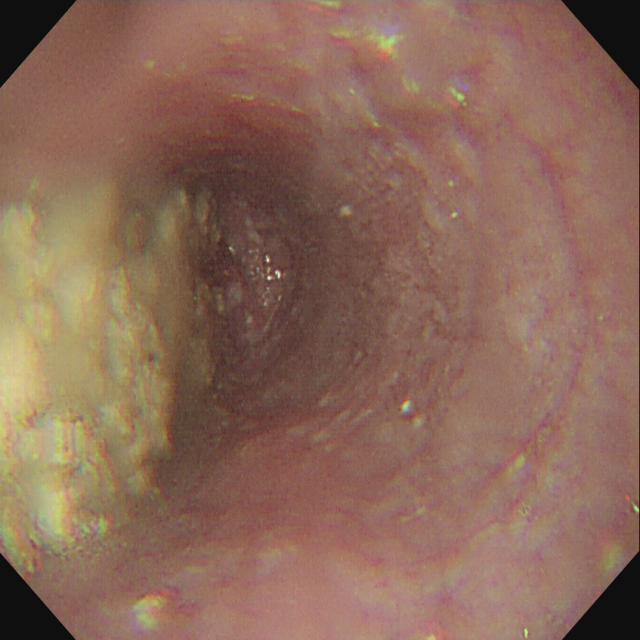B: (2, 191, 224, 561)
